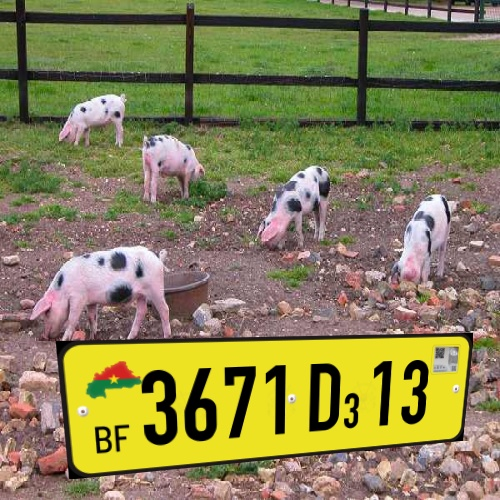plate: (37, 319, 469, 485)
